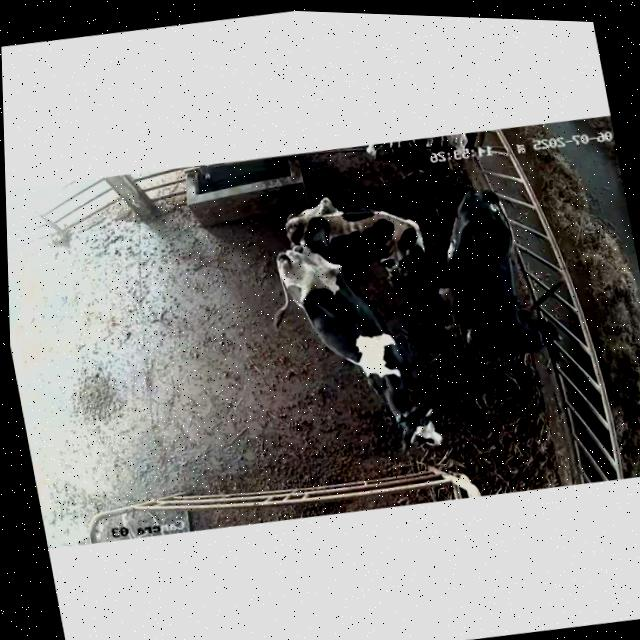stand: (274, 245, 442, 450), (285, 196, 436, 277)
